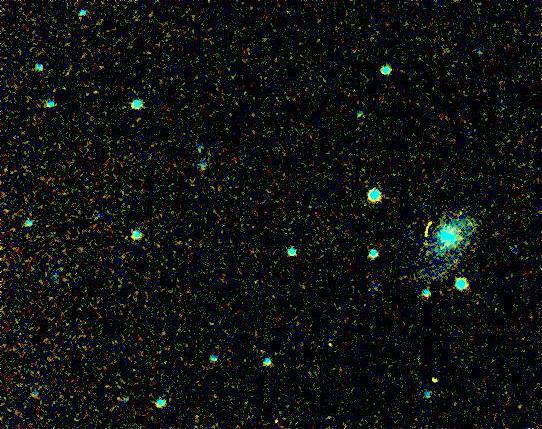star: (425, 363, 455, 393)
